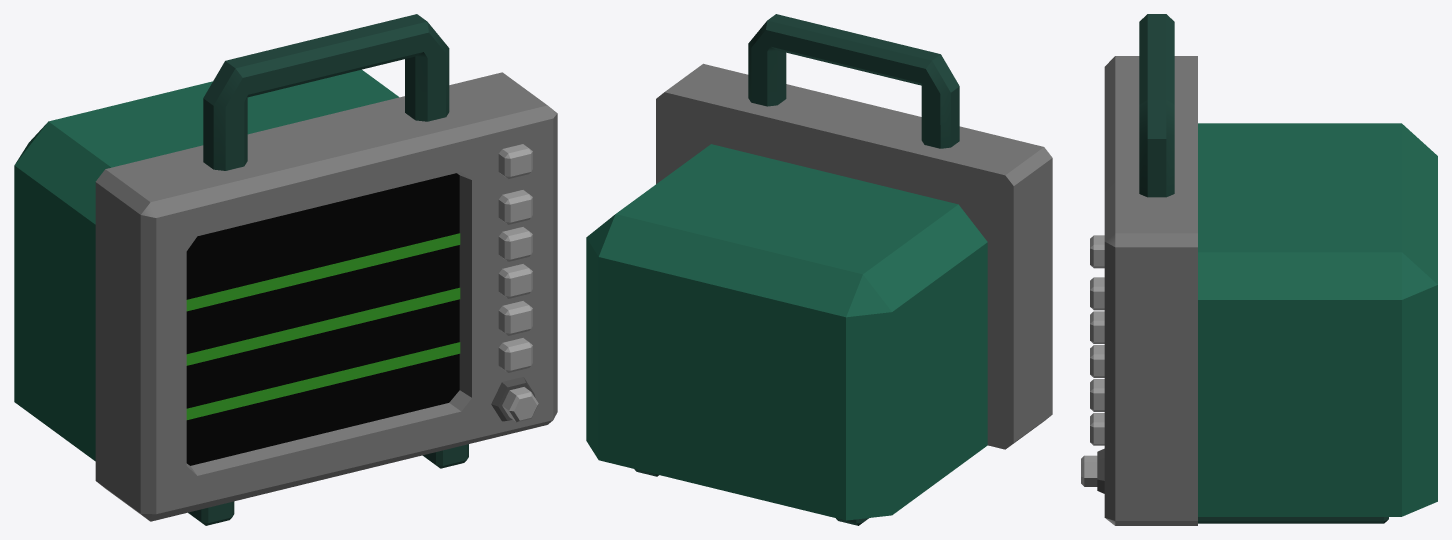
The model's file is Heart Rate Monitor 01.fbx.
The picture shows the model from 3 angles, left to right: view 1: azimuth 30°, elevation 25°; view 2: azimuth 150°, elevation 25°; view 3: azimuth 270°, elevation 25°; orthographic projection. The views are drawn at different scales.
Visible parts, largest first — view 1: Heart_Rate_Monitor_01; view 2: Heart_Rate_Monitor_01; view 3: Heart_Rate_Monitor_01.
Boxes of the visible parts, left/top/right/bottom form: Heart_Rate_Monitor_01: left=14, top=14, right=557, bottom=525; Heart_Rate_Monitor_01: left=586, top=14, right=1052, bottom=525; Heart_Rate_Monitor_01: left=1081, top=14, right=1437, bottom=525.
Bounding box in the file's own units: 57.04 × 58.43 × 46.2.
